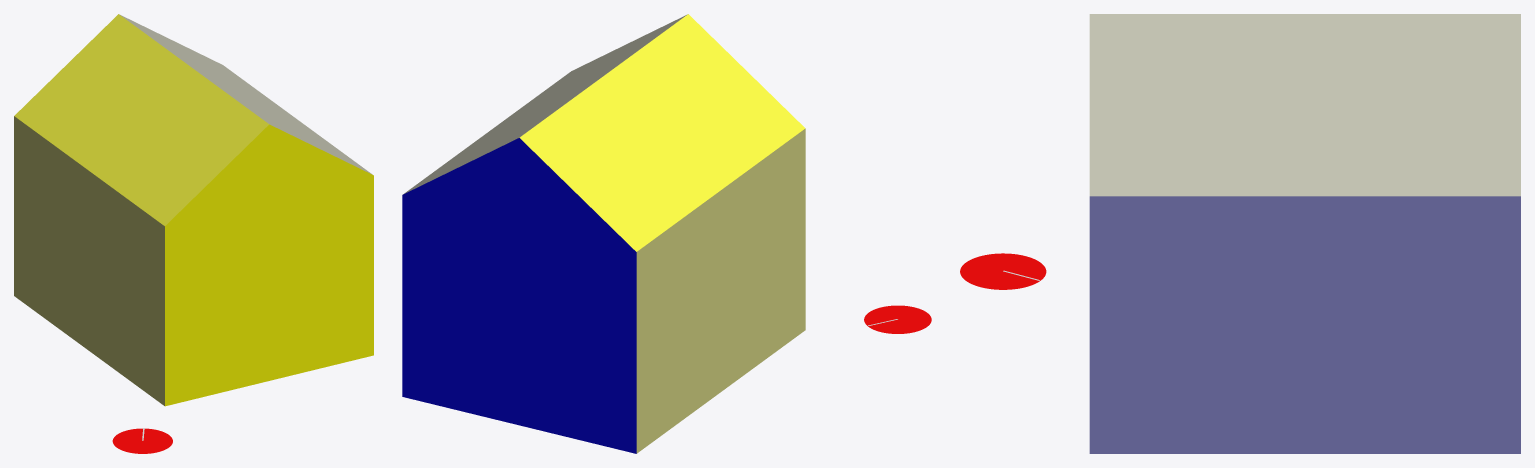
File: result.glb
The picture shows the model from 3 angles, left to right: view 1: azimuth 30°, elevation 25°; view 2: azimuth 150°, elevation 25°; view 3: azimuth 270°, elevation 25°; orthographic projection. The views are drawn at different scales.
Visible parts, largest first — view 1: c3b82486-3633-40fe-b9d7-2cb135b6f865__undefined, 5e372820-8925-4106-9392-245386da751a__undefined, 2e789f82-92ca-436e-9edf-fa71f67a1000__undefined, 37ee7e7d-769a-4145-9bfe-b71784148eaa__undefined, c88762dc-6e33-4b5b-8424-97c2fc5cb2a6__Circle; view 2: 08d1e3b9-cc4d-4190-930a-791b5caba248__undefined, 5e372820-8925-4106-9392-245386da751a__undefined, 2e789f82-92ca-436e-9edf-fa71f67a1000__undefined, 37ee7e7d-769a-4145-9bfe-b71784148eaa__undefined, c88762dc-6e33-4b5b-8424-97c2fc5cb2a6__Circle; view 3: 80d3e5c4-d4b4-42a0-801d-10cd85a3ca9c__undefined, 37ee7e7d-769a-4145-9bfe-b71784148eaa__undefined, c88762dc-6e33-4b5b-8424-97c2fc5cb2a6__Circle.
Part boxes in pixels (x1=…): c3b82486-3633-40fe-b9d7-2cb135b6f865__undefined: x1=165, y1=124, x2=373, y2=406; 5e372820-8925-4106-9392-245386da751a__undefined: x1=14, y1=116, x2=164, y2=405; 2e789f82-92ca-436e-9edf-fa71f67a1000__undefined: x1=14, y1=14, x2=268, y2=225; 37ee7e7d-769a-4145-9bfe-b71784148eaa__undefined: x1=119, y1=14, x2=372, y2=174; c88762dc-6e33-4b5b-8424-97c2fc5cb2a6__Circle: x1=112, y1=428, x2=172, y2=453; 08d1e3b9-cc4d-4190-930a-791b5caba248__undefined: x1=402, y1=138, x2=636, y2=453; 5e372820-8925-4106-9392-245386da751a__undefined: x1=636, y1=128, x2=805, y2=453; 2e789f82-92ca-436e-9edf-fa71f67a1000__undefined: x1=519, y1=14, x2=805, y2=251; 37ee7e7d-769a-4145-9bfe-b71784148eaa__undefined: x1=403, y1=14, x2=687, y2=194; c88762dc-6e33-4b5b-8424-97c2fc5cb2a6__Circle: x1=864, y1=305, x2=931, y2=333; 80d3e5c4-d4b4-42a0-801d-10cd85a3ca9c__undefined: x1=1089, y1=196, x2=1520, y2=453; 37ee7e7d-769a-4145-9bfe-b71784148eaa__undefined: x1=1089, y1=14, x2=1520, y2=196; c88762dc-6e33-4b5b-8424-97c2fc5cb2a6__Circle: x1=960, y1=253, x2=1046, y2=289.
Size of the model in its own units: 550 by 469 by 650.
